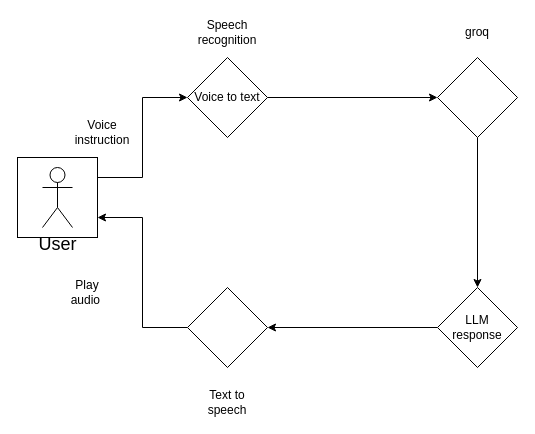
Image size: 535x434. Some labels were removed from this diagram. The shapes that lost their labels are listed below. From the top down, each one's centre as x and y in pixels, then its label:
the point at 477,97: LLM
the point at 227,327: Text to voice
